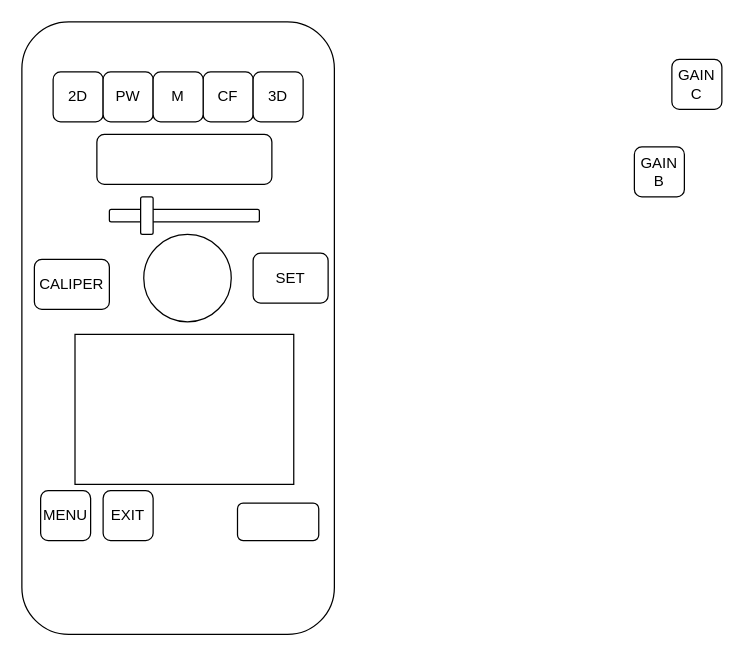
Some shapes in this 744 by 656 pixel diagram are drawn without their labels. The centre of each missing label's shape, as x and y in pixels:
"GAIN B / CF / PW" goes at point (184, 158).
"remote" goes at point (277, 521).
